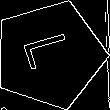L_E: (19, 32, 80, 77)
